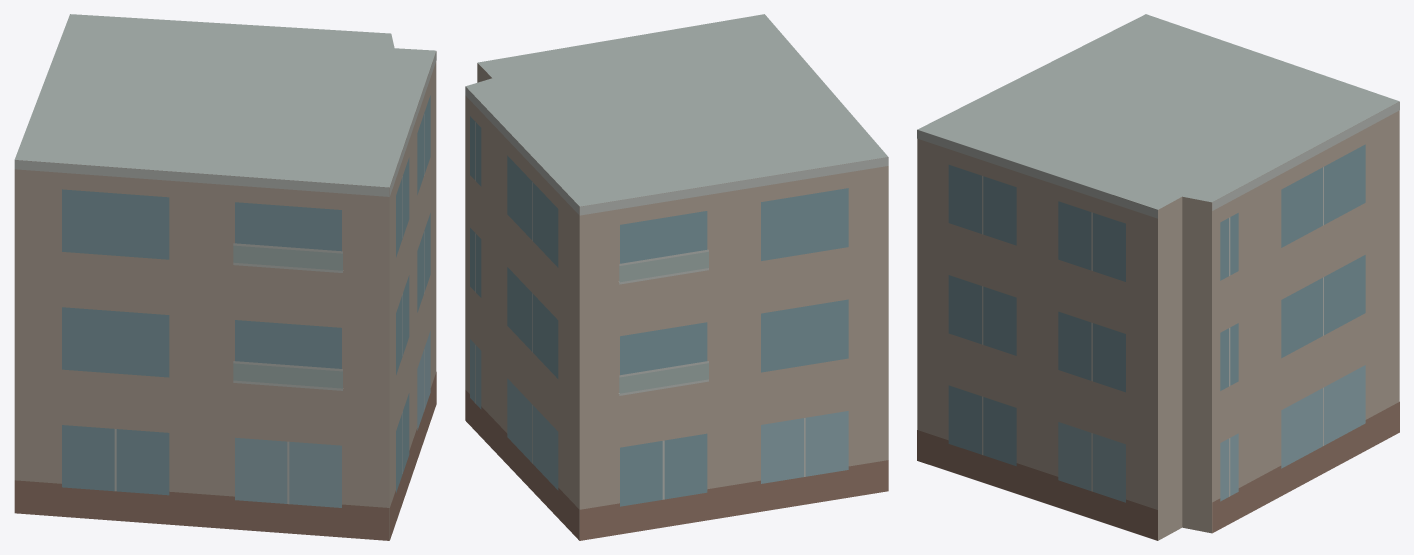
The model's file is survey-upis-32687290.glb.
3 views of the same model, side by side, from view 1: azimuth 30°, elevation 25°; view 2: azimuth 150°, elevation 25°; view 3: azimuth 270°, elevation 25° (orthographic). The views are drawn at different scales.
Visible parts, largest first — view 1: survey-upis-32687290.tmp; view 2: survey-upis-32687290.tmp; view 3: survey-upis-32687290.tmp.
Boxes of the visible parts, x1=… form: survey-upis-32687290.tmp: x1=14, y1=14, x2=436, y2=540; survey-upis-32687290.tmp: x1=465, y1=14, x2=888, y2=540; survey-upis-32687290.tmp: x1=917, y1=14, x2=1399, y2=540.
Bounding box in the file's own units: 11.55 × 9.1 × 12.03.
